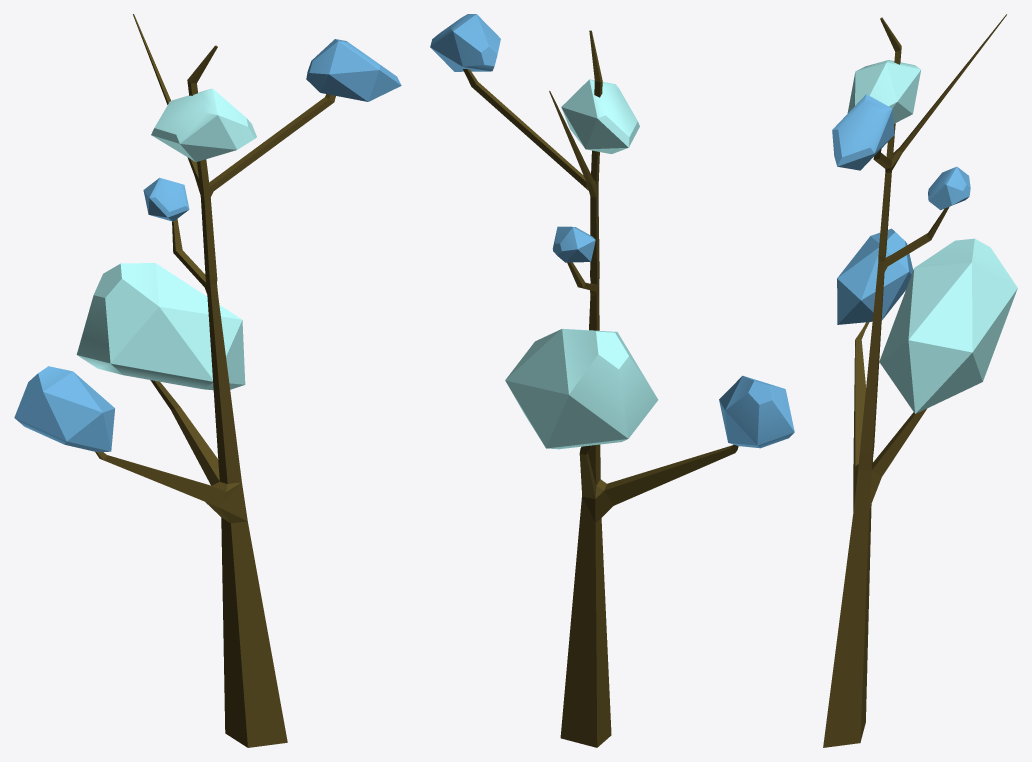
Rendered from SkinnyTree.fbx.
The picture shows the model from 3 angles, left to right: view 1: azimuth 30°, elevation 25°; view 2: azimuth 150°, elevation 25°; view 3: azimuth 270°, elevation 25°; orthographic projection. The views are drawn at different scales.
Parts seen in each view (by area): view 1: SkinnyTree; view 2: SkinnyTree; view 3: SkinnyTree.
Part boxes in pixels (bbox=[...]): SkinnyTree: bbox=[14, 14, 401, 747]; SkinnyTree: bbox=[430, 14, 794, 747]; SkinnyTree: bbox=[823, 14, 1017, 747].
Size of the model in its own units: 747 by 1357 by 338.
